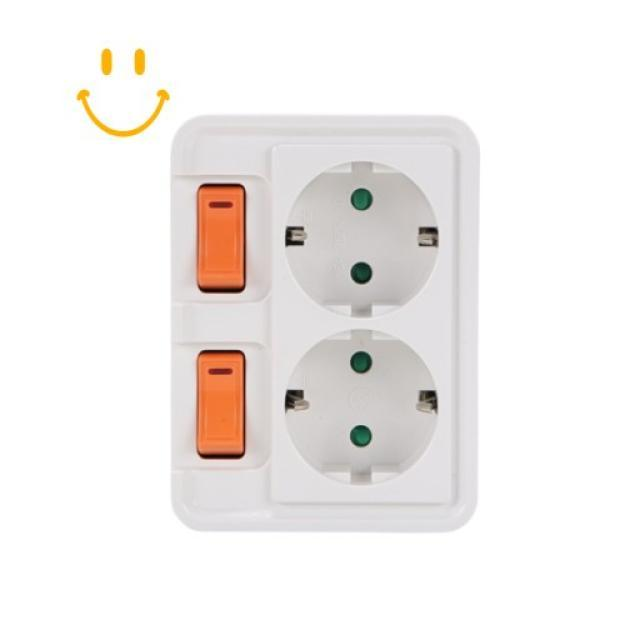typeb: (145, 91, 496, 564)
